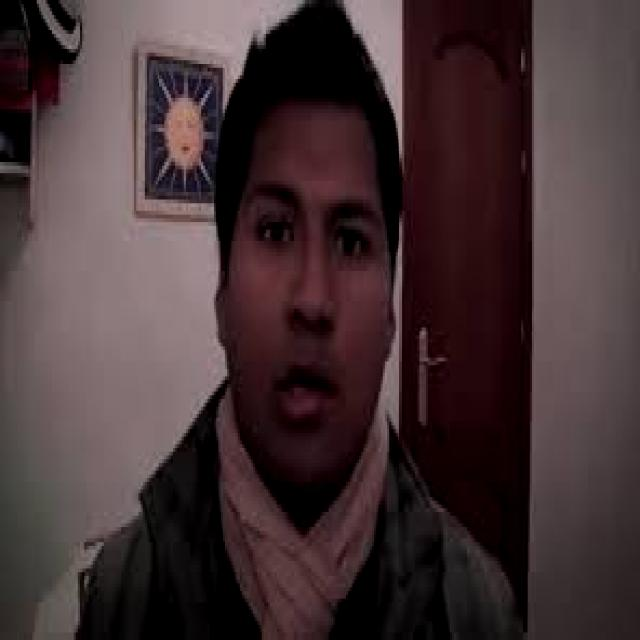normal_face: (206, 28, 406, 494)
